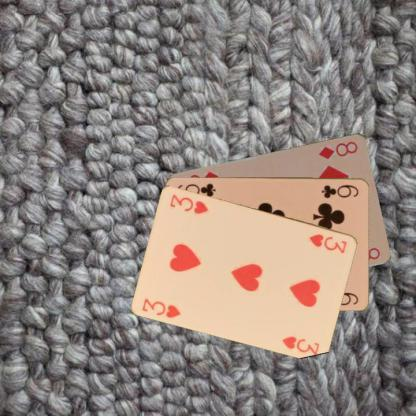3h: (140, 295, 182, 320), (307, 231, 348, 254)
6c: (319, 182, 360, 199)
8d: (316, 138, 359, 160)
